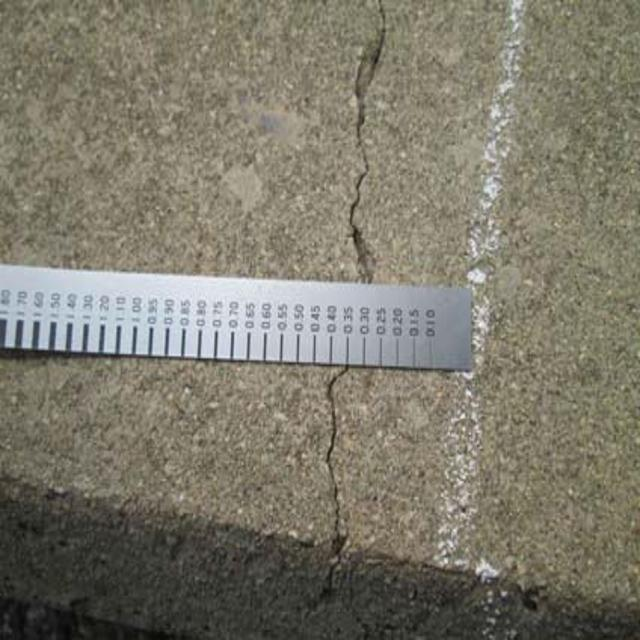crack: (288, 374, 396, 633), (336, 8, 403, 286)
